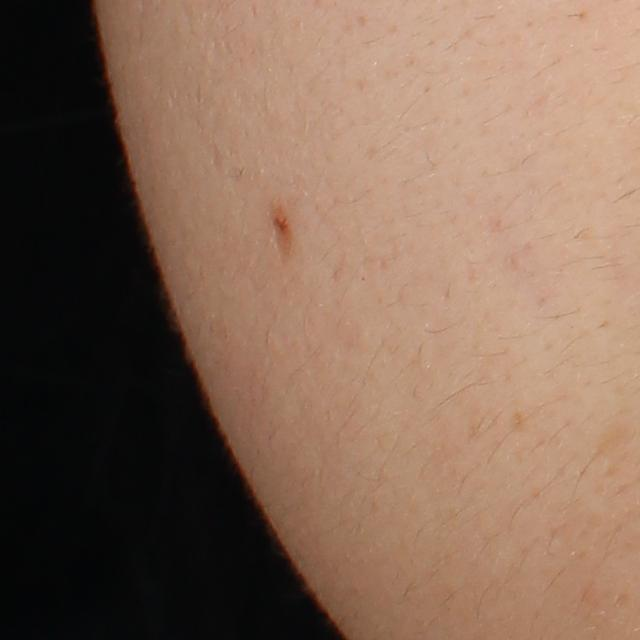nevus: (264, 199, 302, 258)
